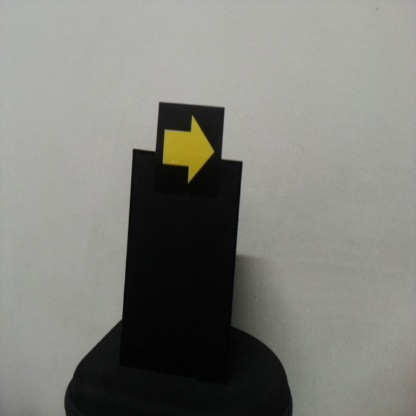id_3: (156, 104, 223, 196)
